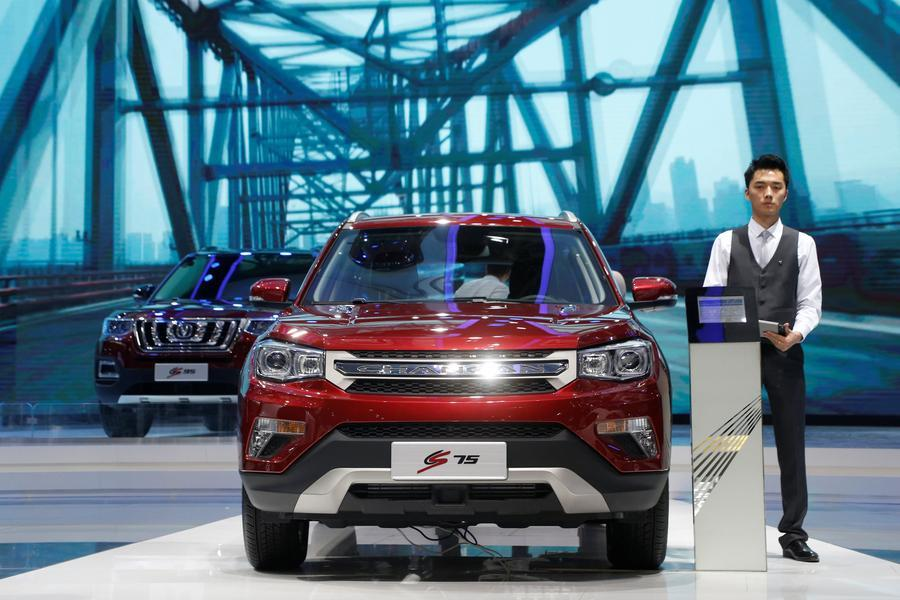bus: (146, 104, 684, 512), (684, 229, 806, 346)
